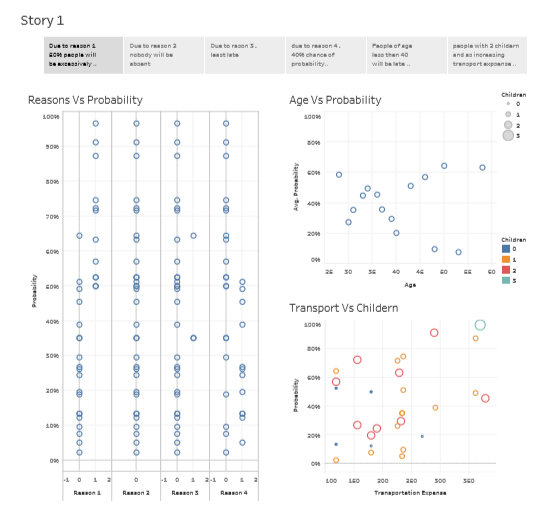

What the dashboard file says about the page in this screenshot:
{"tool":"tableau","page":{"name":"Dashboard","canvas":[1000,800],"ordinal":0},"visuals":[{"type":"worksheet","title":"Reasons Vs Probability","mark":"Shape","rows":["probability"],"cols":["reason_1","reason_2","reason_3","reason_4"],"box":[8,8,492,784]},{"type":"worksheet","title":"Age Vs Probability","mark":"Shape","rows":["probability"],"cols":["age"],"box":[500,8,402,392]},{"type":"legend","title":"Transport Vs Childern","param":"[federated.1avtlg81n3evcy1fp9r8n1pthm5g].[none:children:ok]","box":[902,8,90,273]},{"type":"legend","title":"Transport Vs Childern","param":"[federated.1avtlg81n3evcy1fp9r8n1pthm5g].[none:children:ok]","box":[902,281,90,106]},{"type":"worksheet","title":"Transport Vs Childern","mark":"Shape","rows":["probability"],"cols":["transportation_expense"],"box":[500,400,402,392]}]}

Visuals, with their boxes on the page's 1000x800 design canvas (x1, y1, x2, y2). These are canvas units, not pixel positions in the 549x518 screenshot, which may show the page scaled, cropped or inside an application window:
"Reasons Vs Probability" worksheet (Shape marks): [x1=8, y1=8, x2=500, y2=792]
"Age Vs Probability" worksheet (Shape marks): [x1=500, y1=8, x2=902, y2=400]
"Transport Vs Childern" legend: [x1=902, y1=8, x2=992, y2=281]
"Transport Vs Childern" legend: [x1=902, y1=281, x2=992, y2=387]
"Transport Vs Childern" worksheet (Shape marks): [x1=500, y1=400, x2=902, y2=792]
